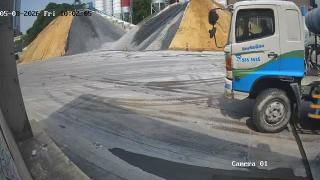cement_mixer_truck: (208, 0, 320, 133)
